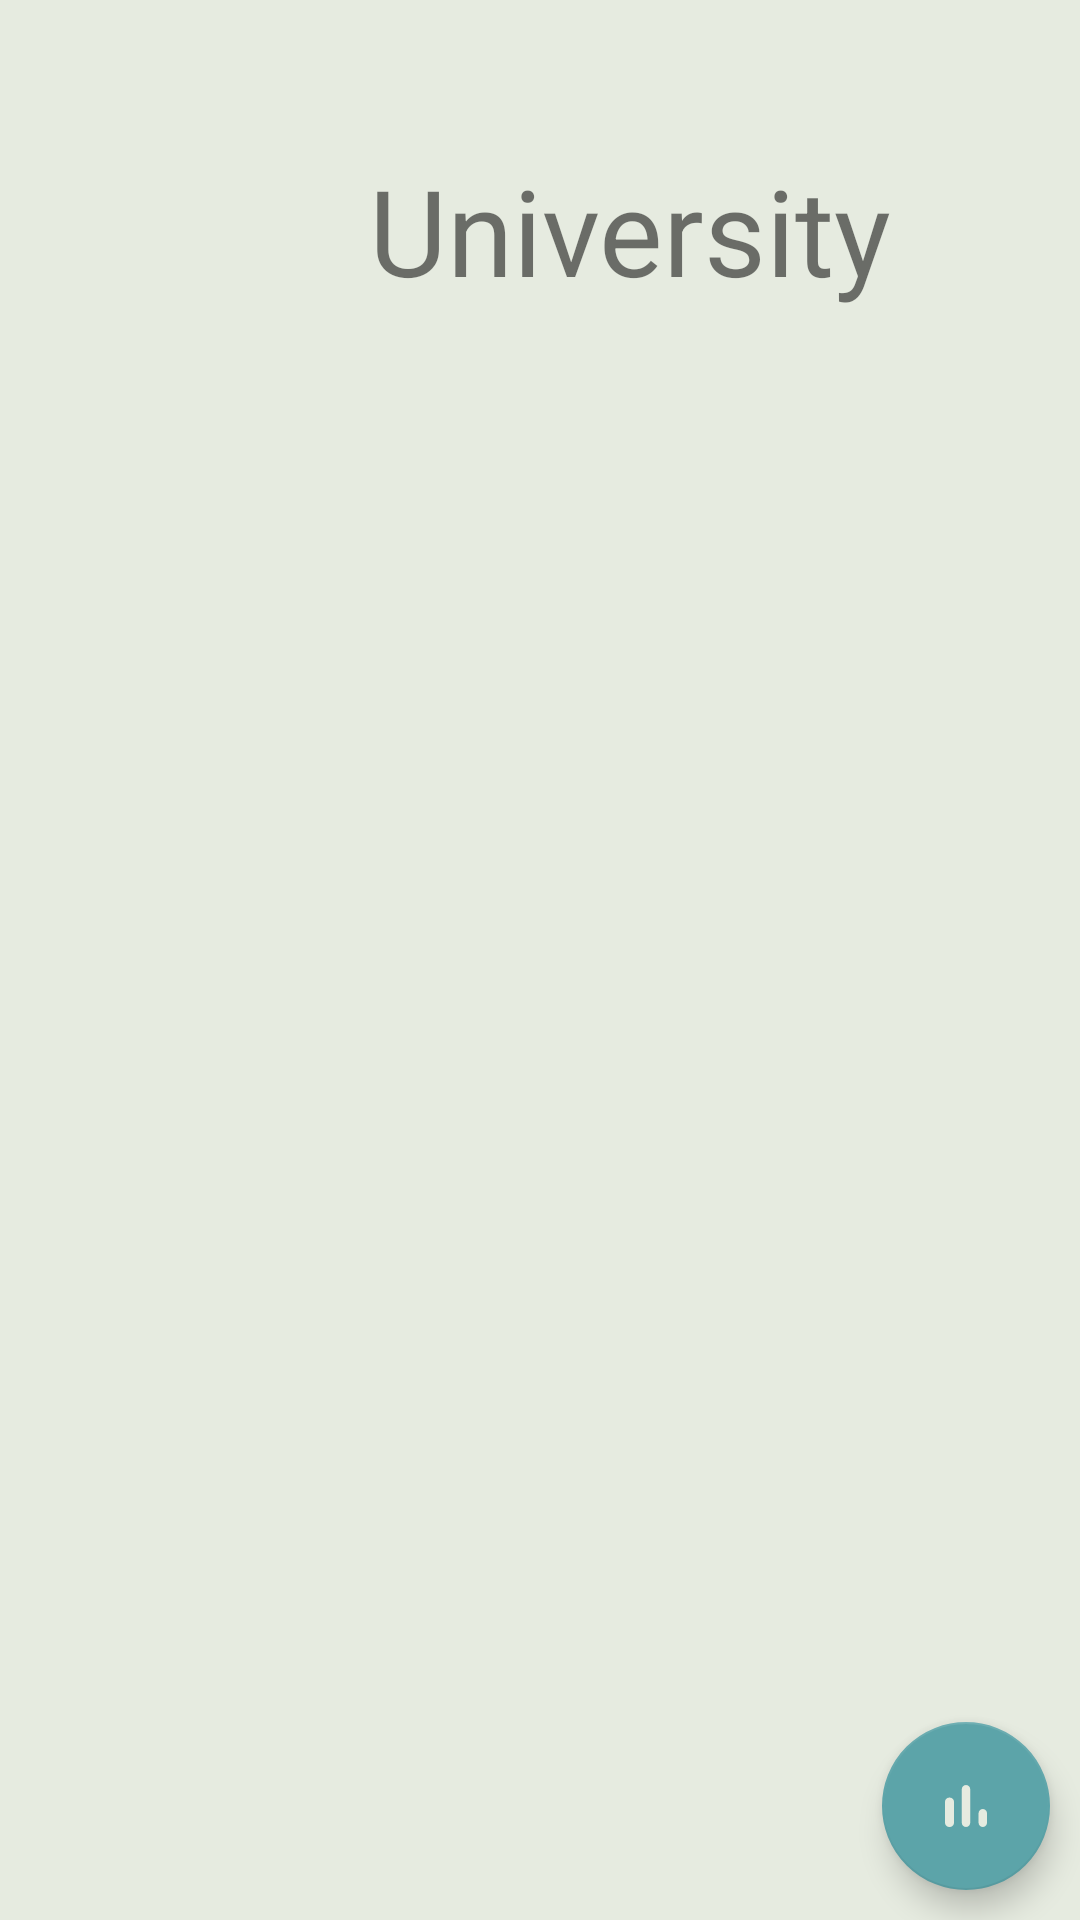

Locate icon controls on the screen. Image size 1080*1920, boxes as (x1, y1, x2, y2).
bar chart: (882, 1722, 1050, 1890)
